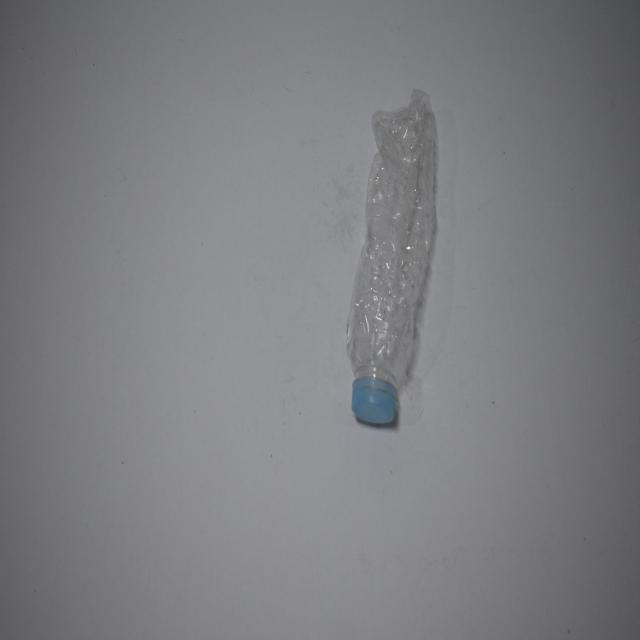bottle: (342, 76, 442, 436)
